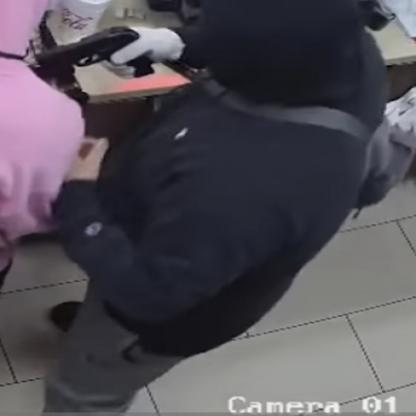weapon: (34, 23, 156, 81)
